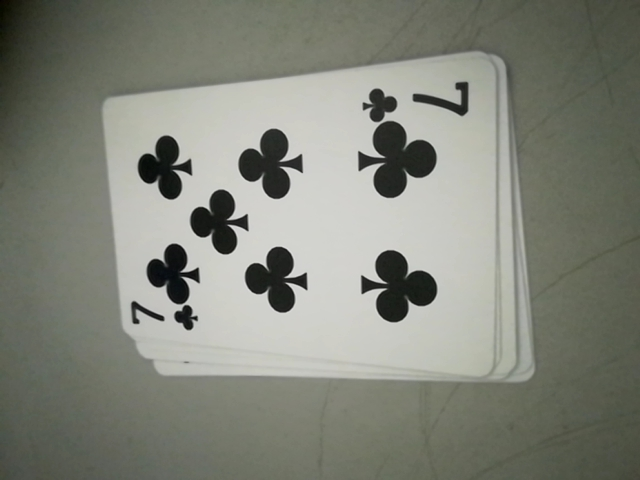mh 7: (351, 75, 473, 125), (123, 300, 199, 338)
